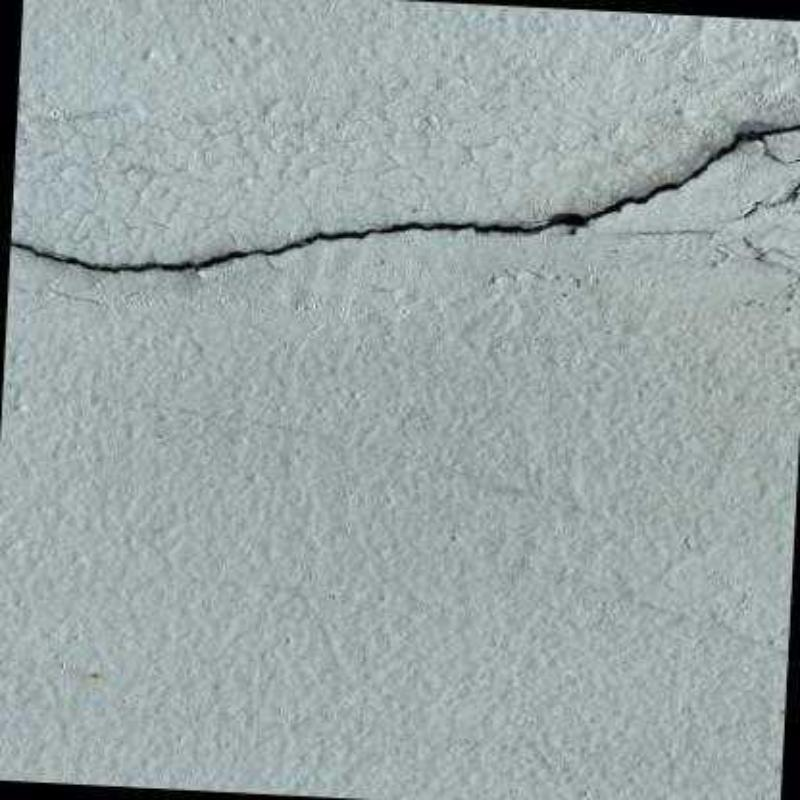crack: (7, 120, 798, 275)
